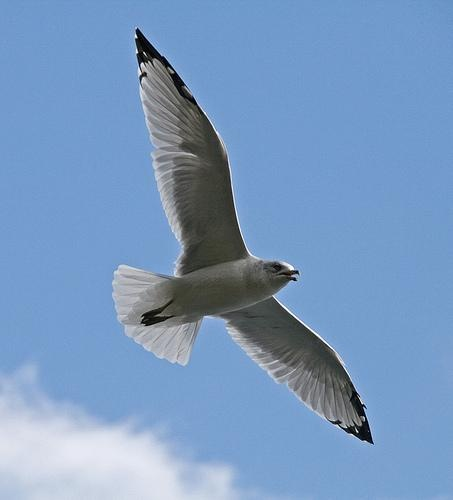bird: (109, 19, 378, 447)
